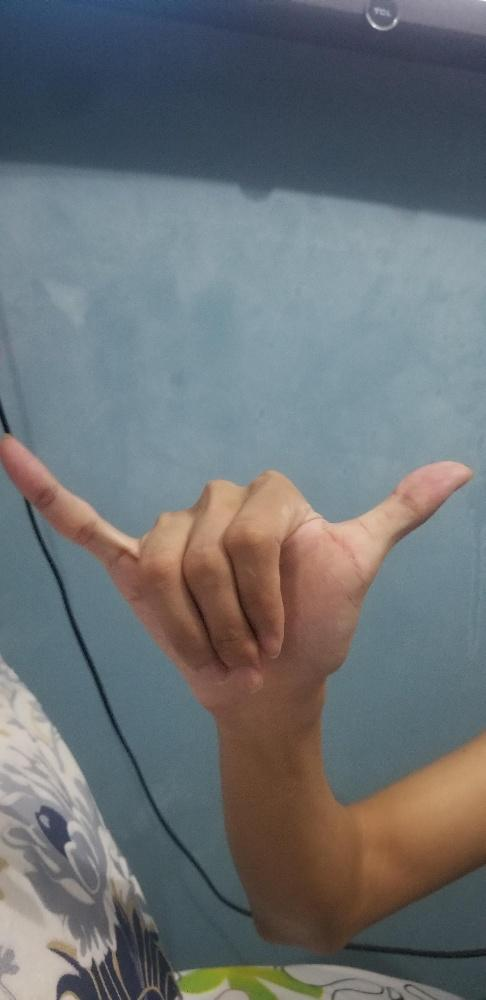y: (0, 422, 475, 711)
